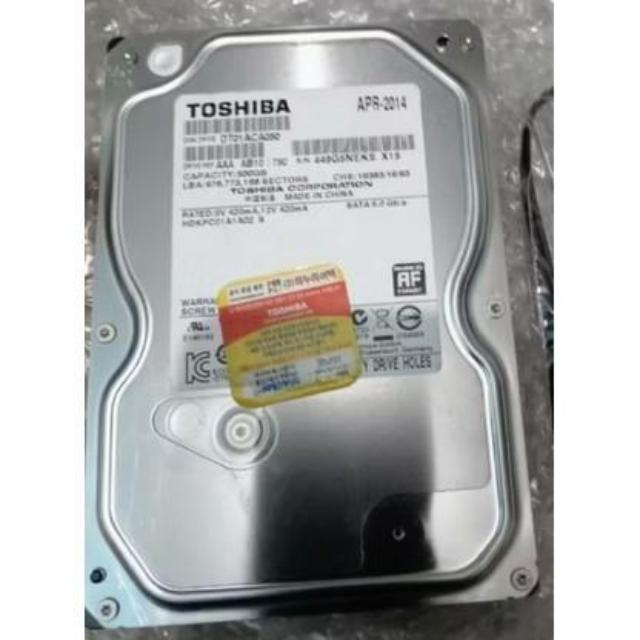DISK: (92, 16, 550, 616)
